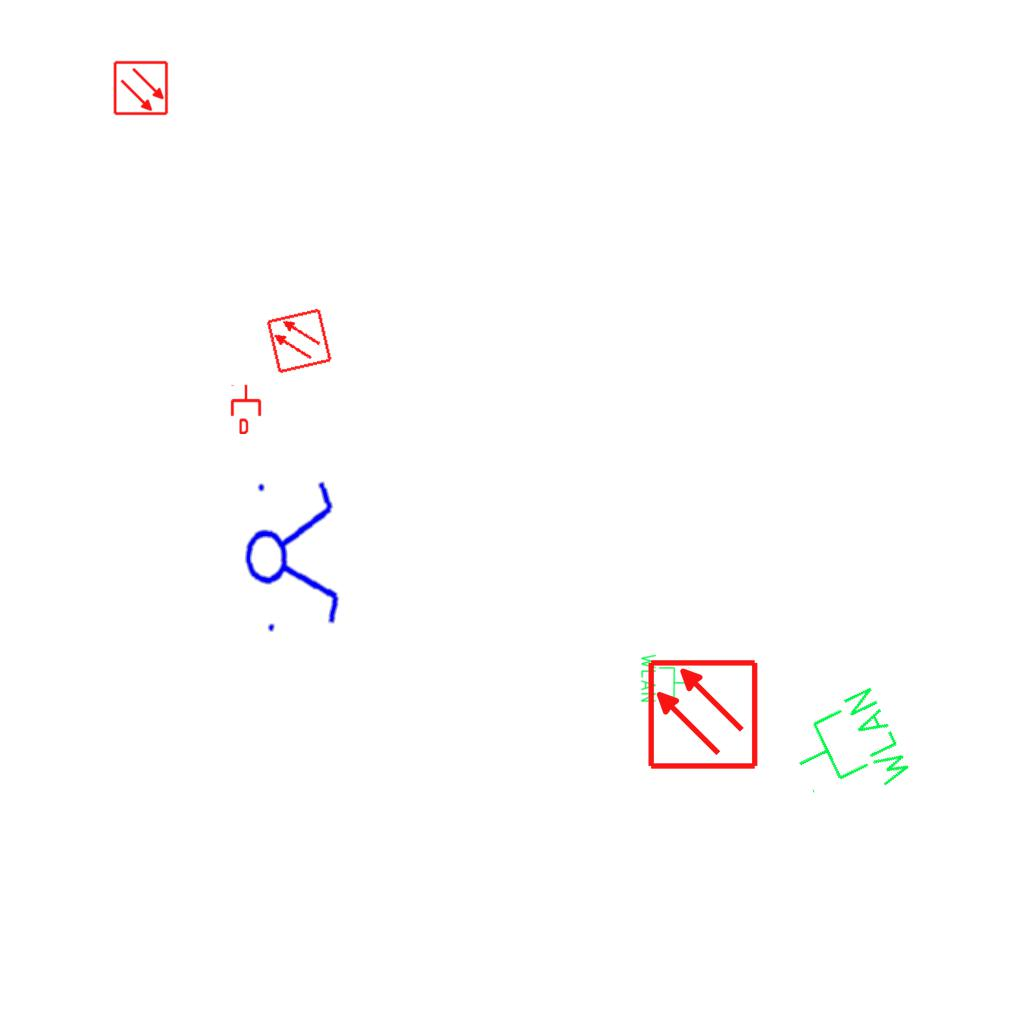Datenanschluss_einfach: (229, 384, 263, 434)
RMO_Rauchmelder_optischer: (646, 658, 759, 771), (265, 307, 333, 375), (113, 60, 169, 116)
Serienschalter: (238, 466, 346, 642)
WLAN: (778, 681, 918, 822), (639, 652, 691, 704)
